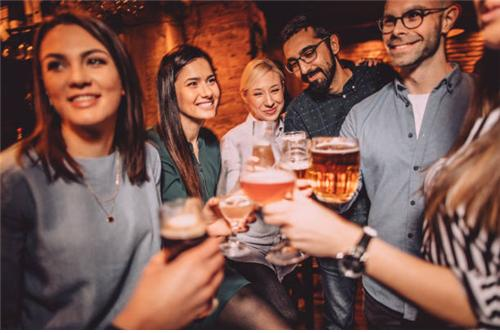alcohol: (307, 137, 361, 215), (238, 136, 294, 209), (157, 199, 207, 265), (281, 131, 309, 191), (218, 196, 253, 241), (250, 120, 276, 168)
